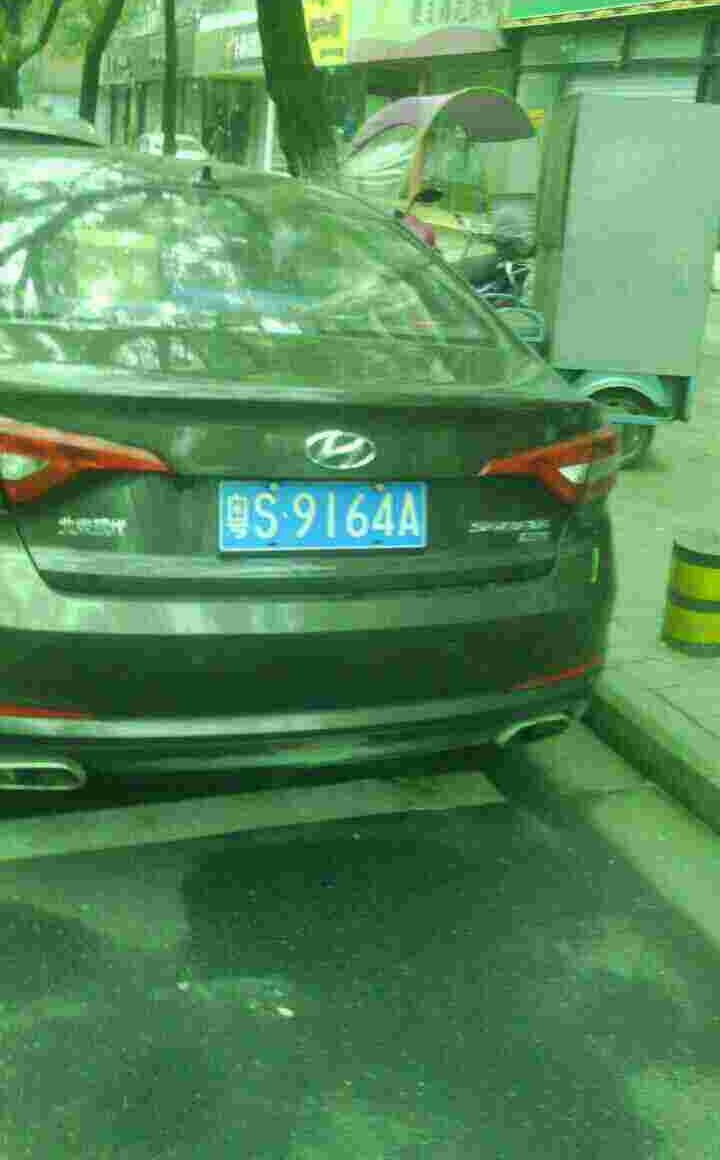car: (215, 473, 435, 561)
